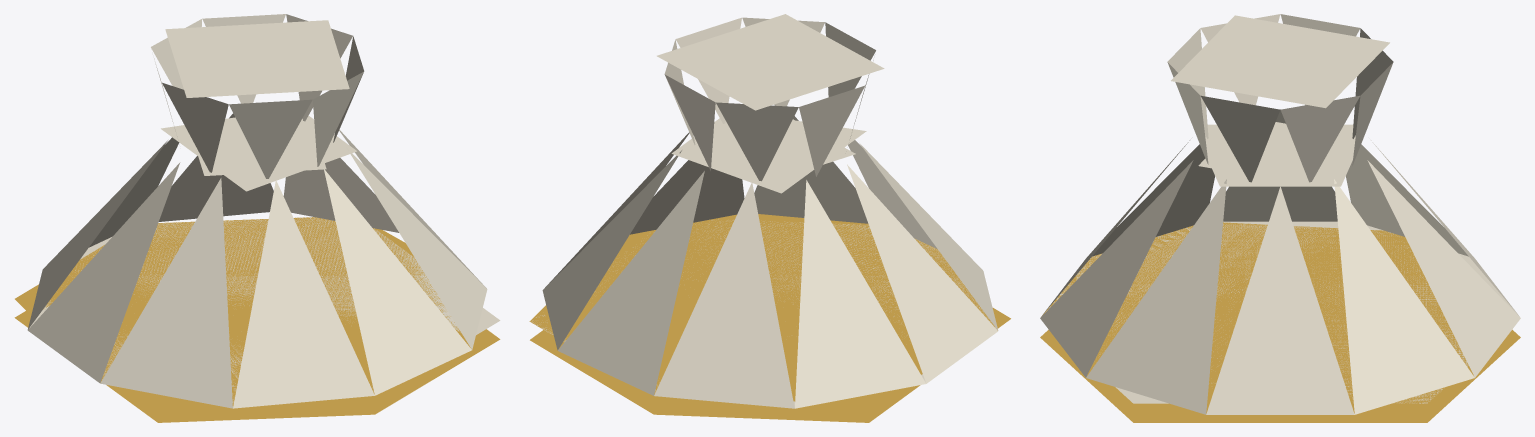
File: prop_gut_cup_flipped_lod1.glb
The picture shows the model from 3 angles, left to right: view 1: azimuth 30°, elevation 25°; view 2: azimuth 150°, elevation 25°; view 3: azimuth 270°, elevation 25°; orthographic projection. The views are drawn at different scales.
Parts seen in each view (by area): view 1: prop_gut_cup_flipped_lod1; view 2: prop_gut_cup_flipped_lod1; view 3: prop_gut_cup_flipped_lod1.
Boxes of the visible parts, x1,y1,x2,y2 form: prop_gut_cup_flipped_lod1: (14,14,500,422); prop_gut_cup_flipped_lod1: (529,14,1010,422); prop_gut_cup_flipped_lod1: (1040,14,1520,422).
Bounding box in the file's own units: 0.3234 × 0.215 × 0.34.
